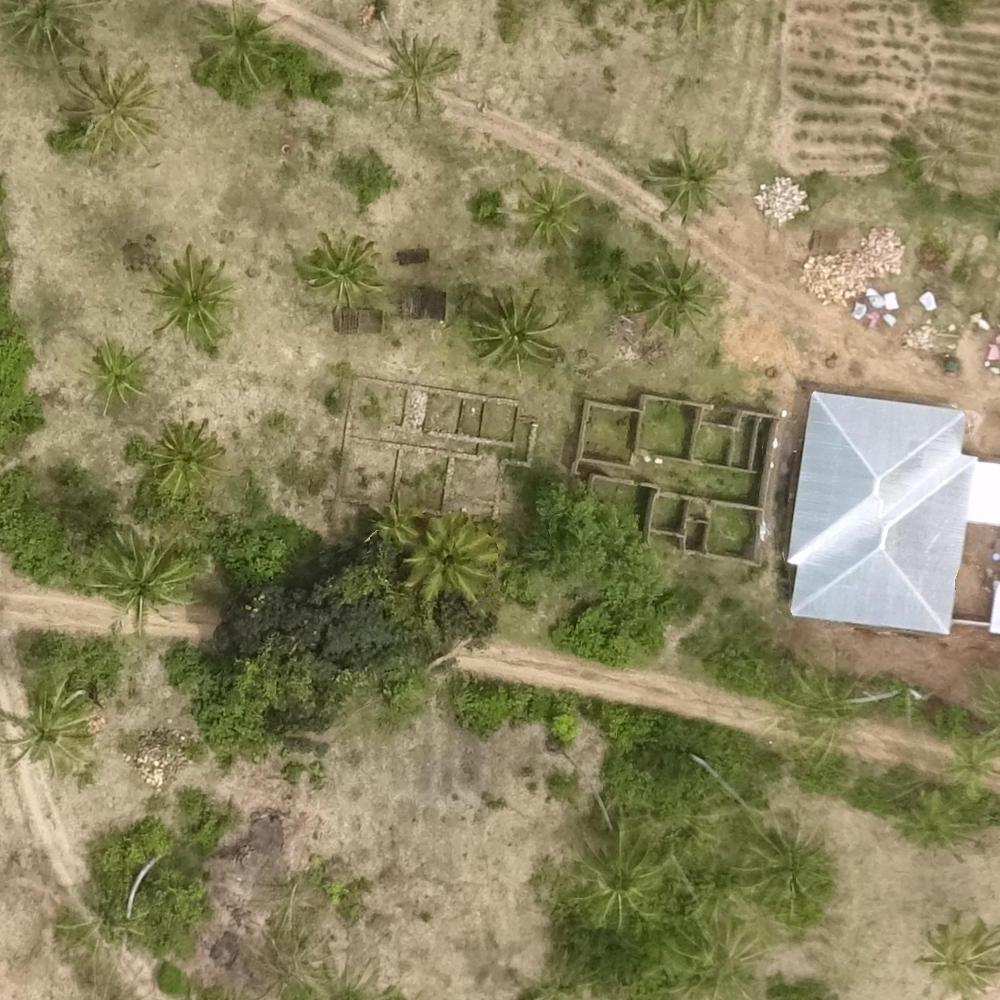Palm: (92, 526, 193, 629), (144, 249, 235, 347), (468, 281, 566, 372), (3, 679, 93, 777), (63, 55, 155, 147), (405, 516, 496, 607), (190, 1, 287, 85), (631, 249, 720, 339), (499, 173, 586, 255), (376, 28, 455, 116), (645, 132, 724, 214), (2, 1, 90, 71), (298, 232, 381, 306), (150, 417, 225, 495), (81, 340, 150, 406)
